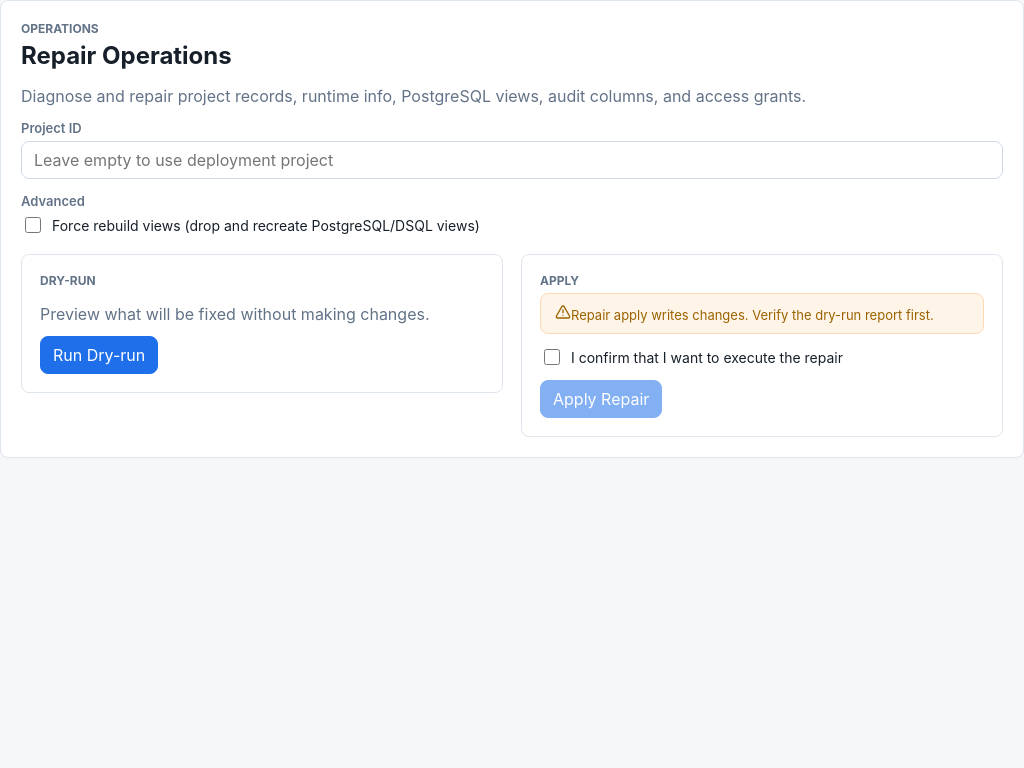
Test: RepairWorkspace › shows error message when dryRunRepair fails
This screenshot has width=1024, height=768.
Click the button "Run Dry-run" at (99, 355), box [40,336,158,374]
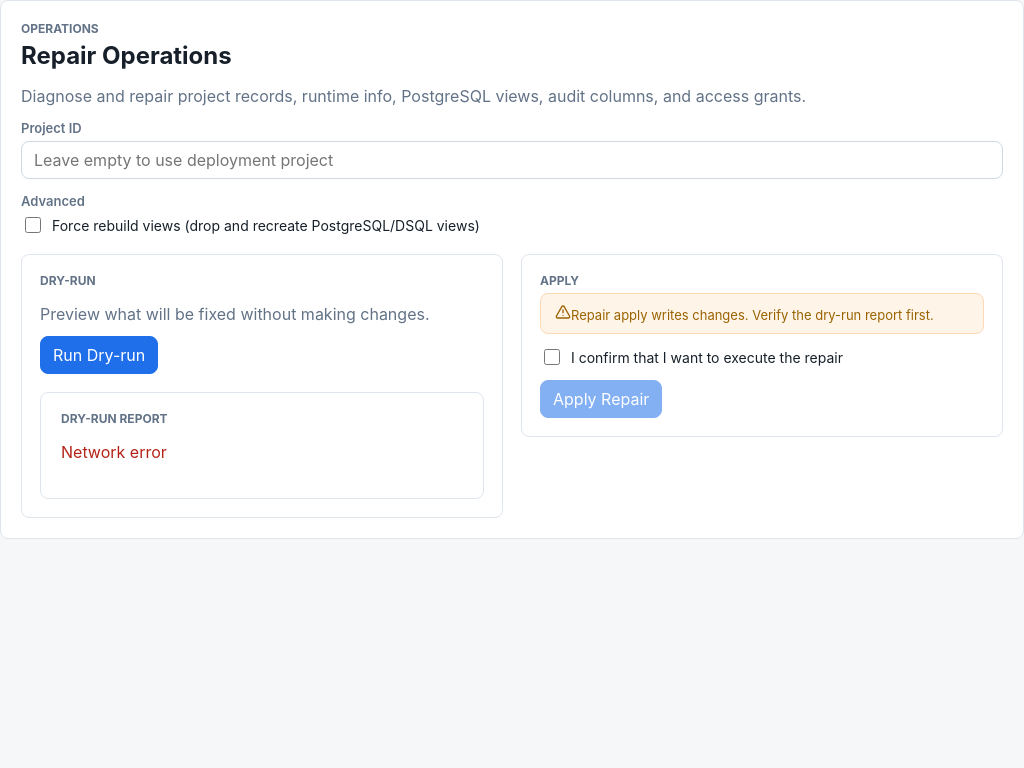
Check: the text "Network error" is shown, box [61,442,167,462]
